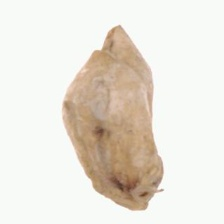L1: (127, 177, 164, 211), (91, 22, 125, 56)
L2: (61, 24, 165, 211)
